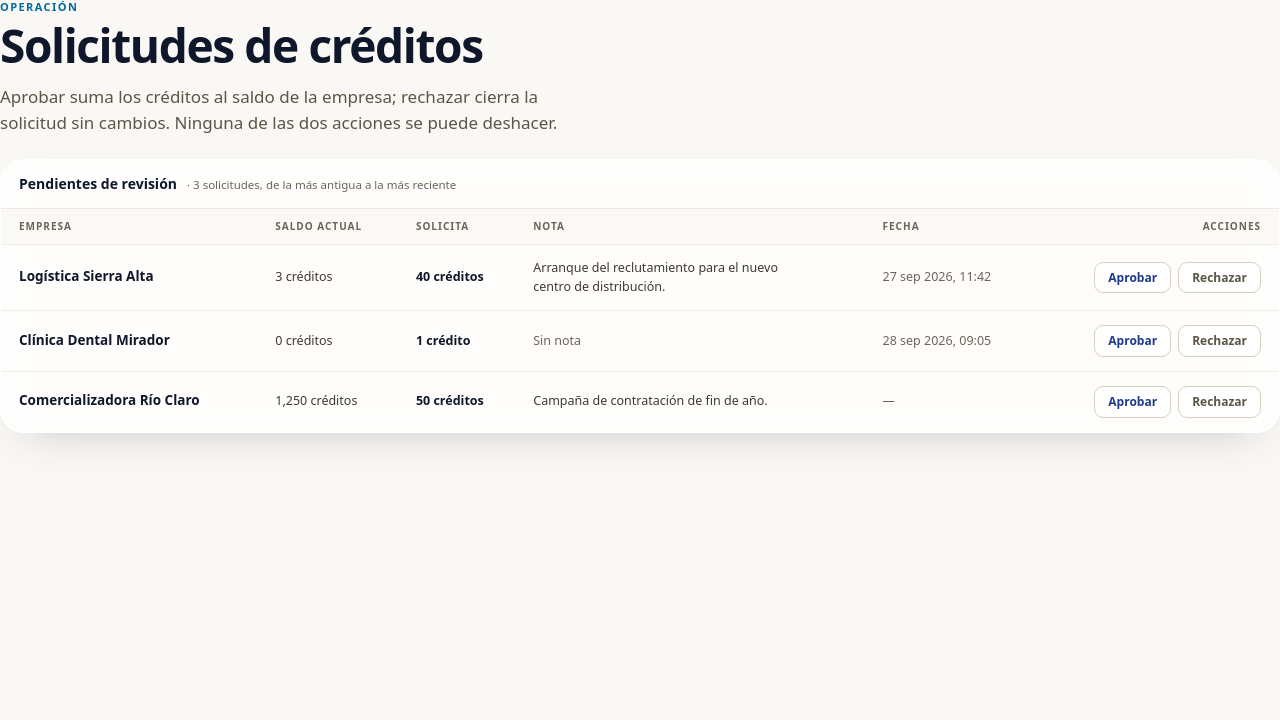
Test: AdminCreditosPage › «Aprobar» pide confirmación; «Cancelar» y Escape cierran sin aprobar y devuelven el foco
Click the button "Aprobar" in the row of "Logística Sierra Alta" at (1133, 278), box [1094,262,1171,294]
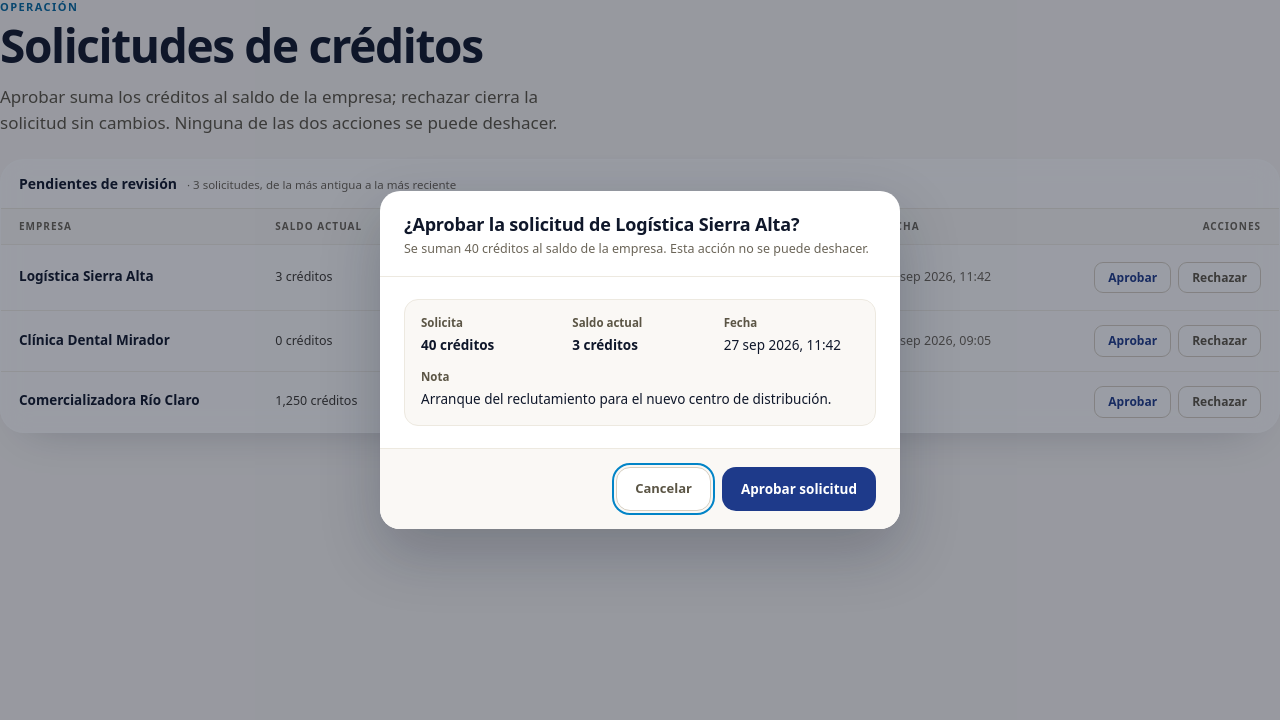
Check: the text "3 créditos" is shown, box [572,336,638,354]
Check: the text "Arranque del reclutamiento para el nuevo centro de distribución." is shown, box [421,388,859,409]
Click the button "Cancelar" at (664, 489), box [616,467,711,511]
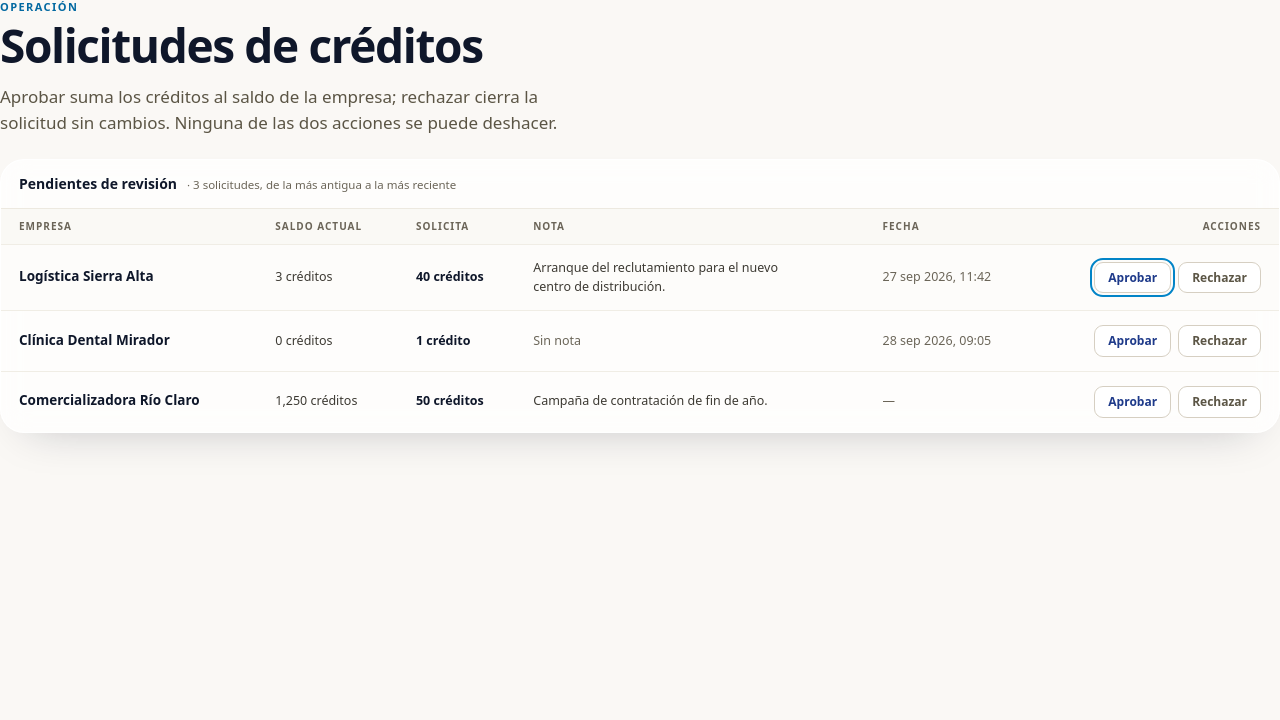
Check: the dialog is gone
Click the button "Rechazar" in the row of "Logística Sierra Alta" at (1220, 278), box [1178,262,1261,294]
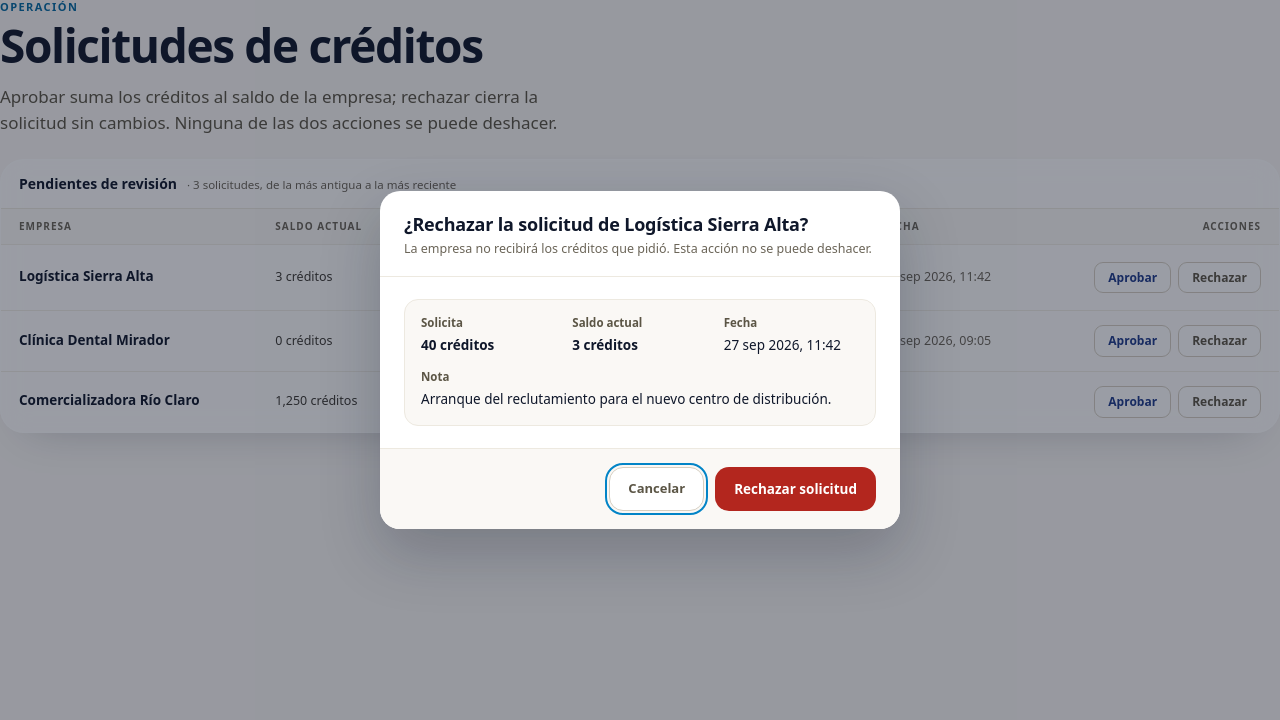
Press Escape
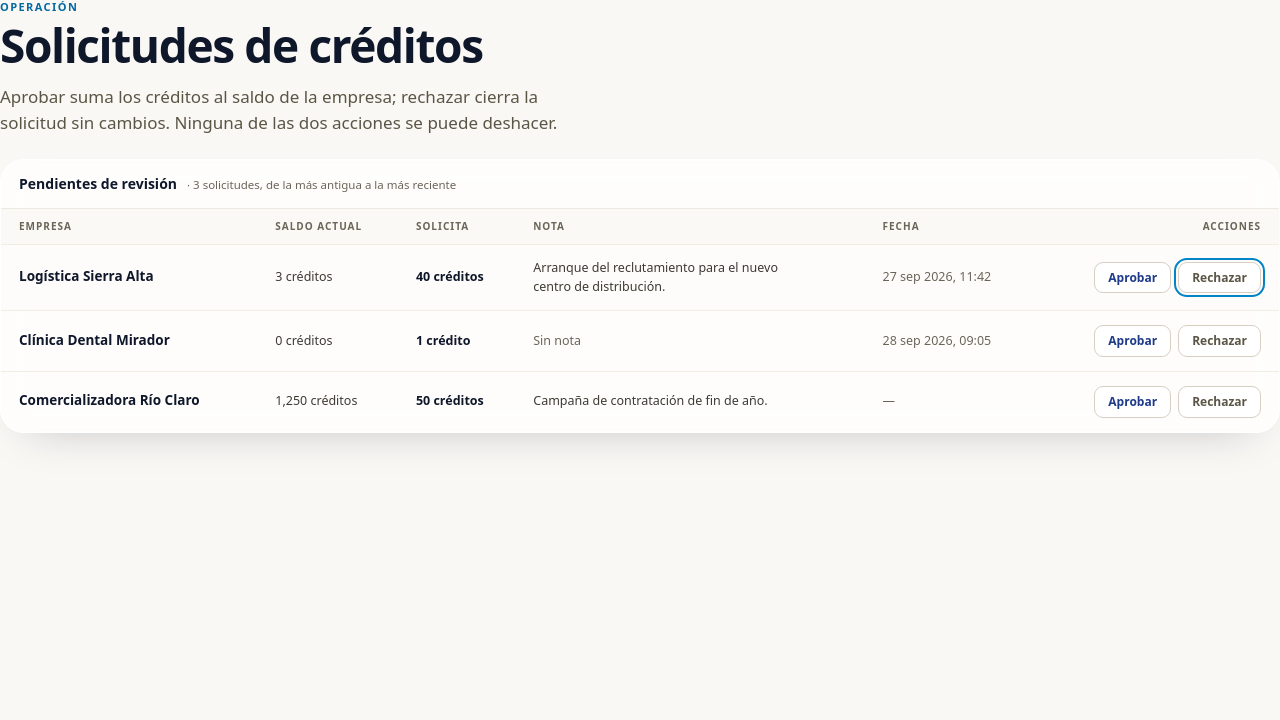
Check: the dialog is gone
